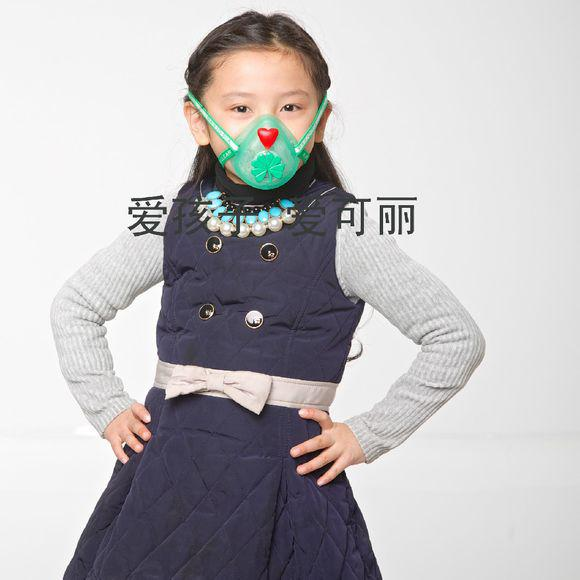OK: (211, 75, 322, 186)
